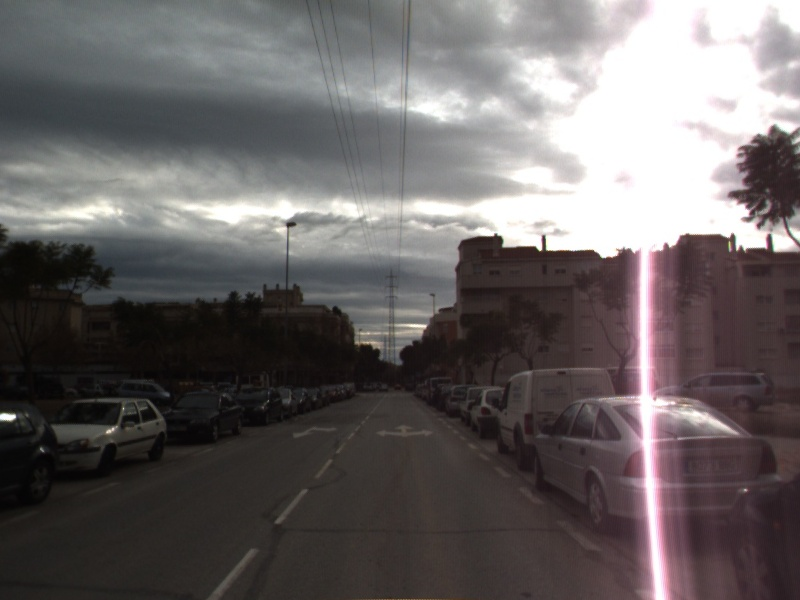STRAIGHT_LEFT_RIGHT: (373, 423, 436, 439)
